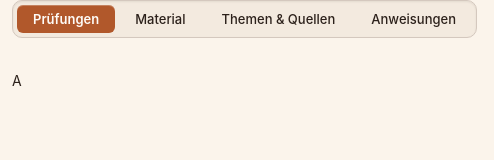
Test: CourseWorkspace › zeigt den vierten Reiter "Anweisungen"
Click the tab "Anweisungen" at (414,19), box [355,5,472,33]
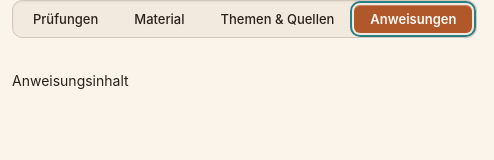
Expected: the text "Anweisungsinhalt" is shown, [12,72,129,89]
